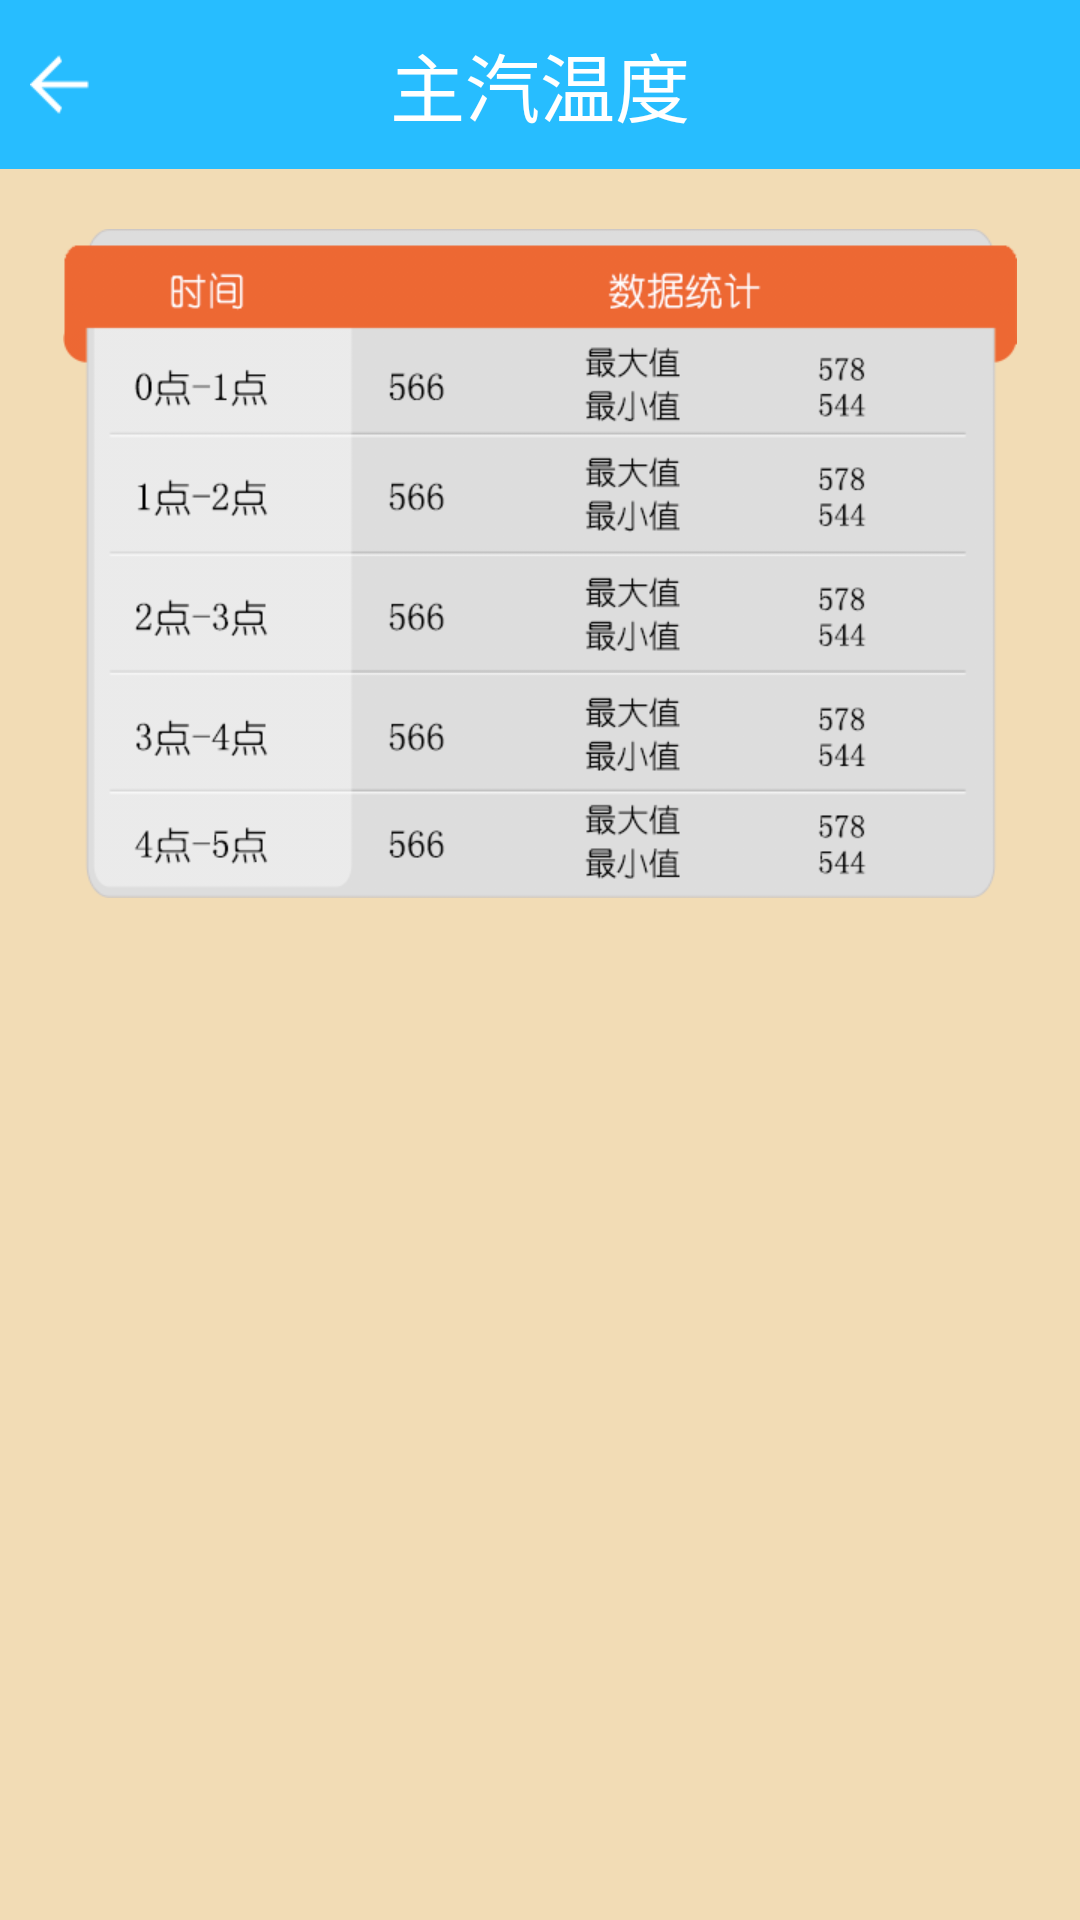

Where to tap for icons on this 1080 x 1920 app screen, as (x,y):
back: (59,84)
